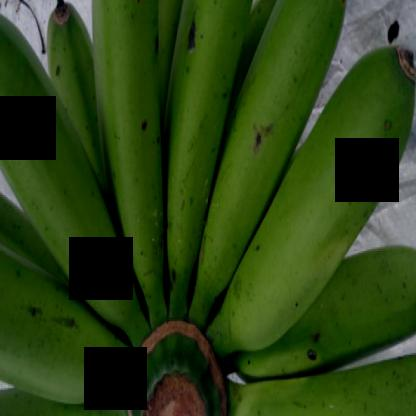unripe: (218, 35, 415, 360), (0, 29, 136, 337), (209, 1, 352, 259), (162, 1, 244, 313), (90, 1, 170, 289), (0, 250, 138, 415), (207, 370, 415, 415)
